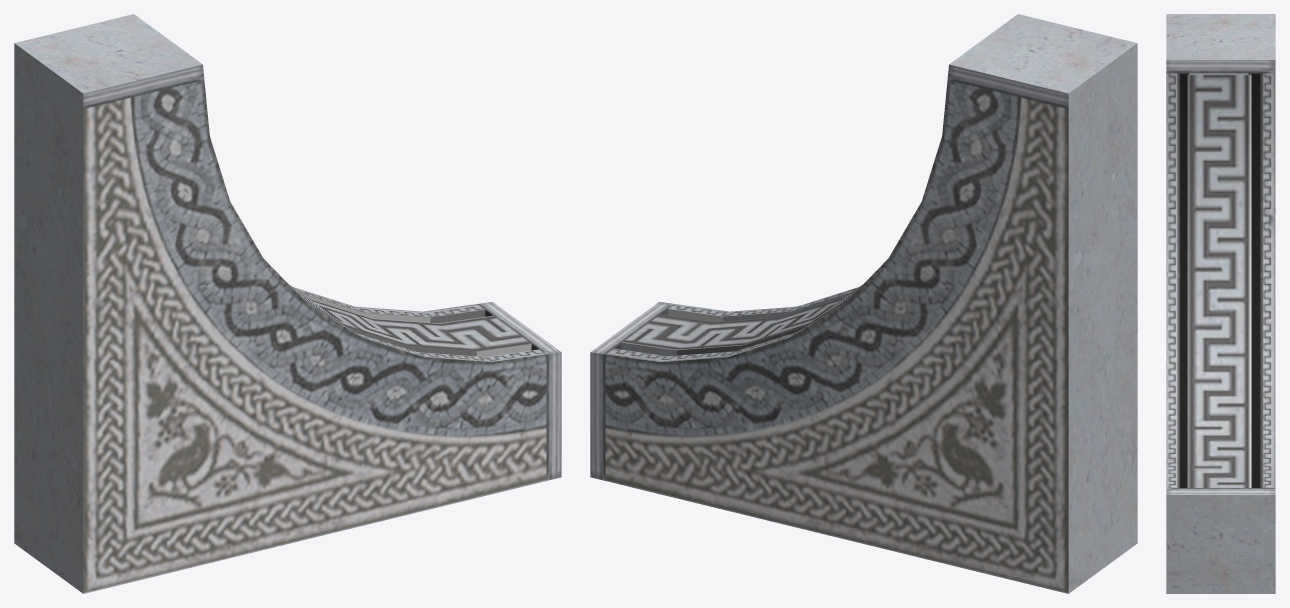
Rendered from Slope2_Set2.fbx.
3 views of the same model, side by side, from view 1: azimuth 30°, elevation 25°; view 2: azimuth 150°, elevation 25°; view 3: azimuth 270°, elevation 25° (orthographic). The views are drawn at different scales.
Visible parts, largest first — view 1: Slope2_Set2; view 2: Slope2_Set2; view 3: Slope2_Set2.
Part boxes in pixels (x1=…): Slope2_Set2: x1=14, y1=14, x2=561, y2=593; Slope2_Set2: x1=590, y1=14, x2=1137, y2=593; Slope2_Set2: x1=1166, y1=14, x2=1275, y2=593.
Size of the model in its own units: 4 by 4 by 1.
